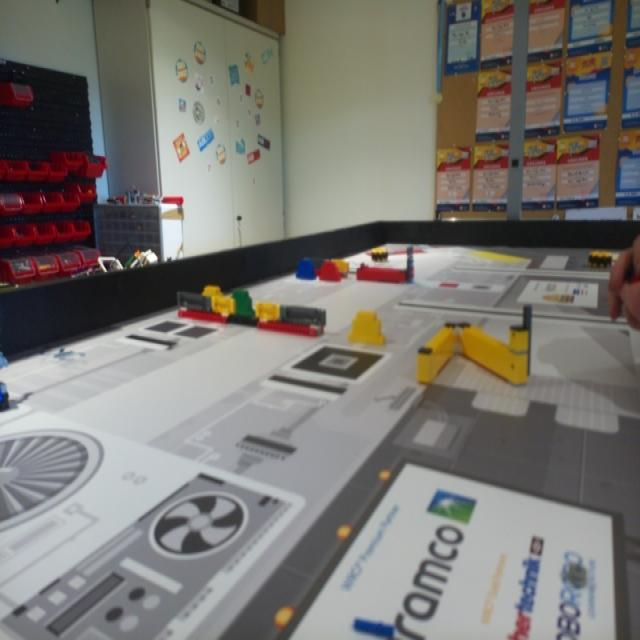blau: (296, 260, 315, 279)
gruen: (230, 289, 253, 316)
rot: (318, 262, 340, 281)
yellow: (346, 311, 385, 344), (204, 288, 224, 299)
